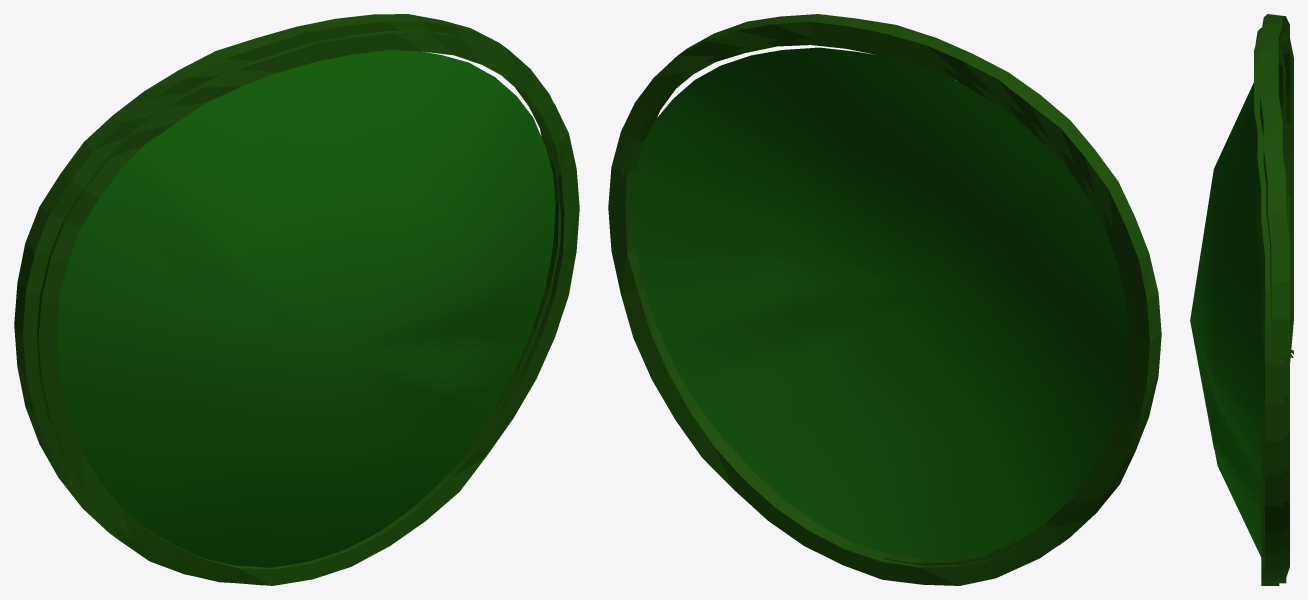
The model's file is green.FBX.
The picture shows the model from 3 angles, left to right: view 1: azimuth 30°, elevation 25°; view 2: azimuth 150°, elevation 25°; view 3: azimuth 270°, elevation 25°; orthographic projection. The views are drawn at different scales.
Parts seen in each view (by area): view 1: VIFS05, VIFS06, VIFS007; view 2: VIFS05, VIFS007, VIFS06; view 3: VIFS05, VIFS007, VIFS06.
Part boxes in pixels (bbox=[...]): VIFS05: bbox=[57, 50, 555, 582]; VIFS06: bbox=[36, 30, 579, 585]; VIFS007: bbox=[14, 14, 560, 585]; VIFS05: bbox=[631, 47, 1128, 559]; VIFS007: bbox=[608, 14, 1161, 585]; VIFS06: bbox=[639, 39, 1136, 565]; VIFS05: bbox=[1190, 82, 1264, 556]; VIFS007: bbox=[1260, 14, 1293, 583]; VIFS06: bbox=[1254, 27, 1286, 585].
Bounding box in the file's own units: 13.15 × 12.55 × 2.32.
